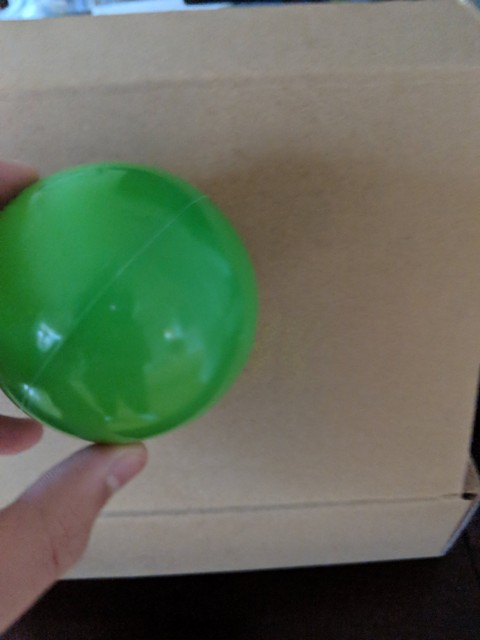ball: (1, 159, 259, 446)
